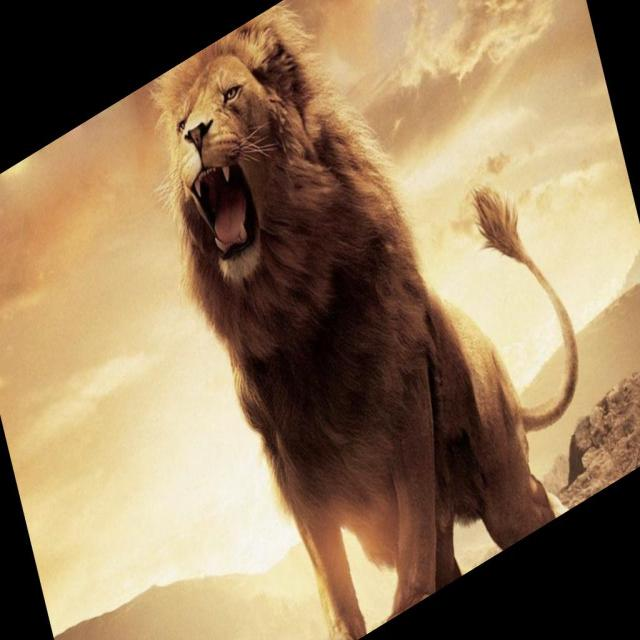Lion: (130, 0, 610, 639)
